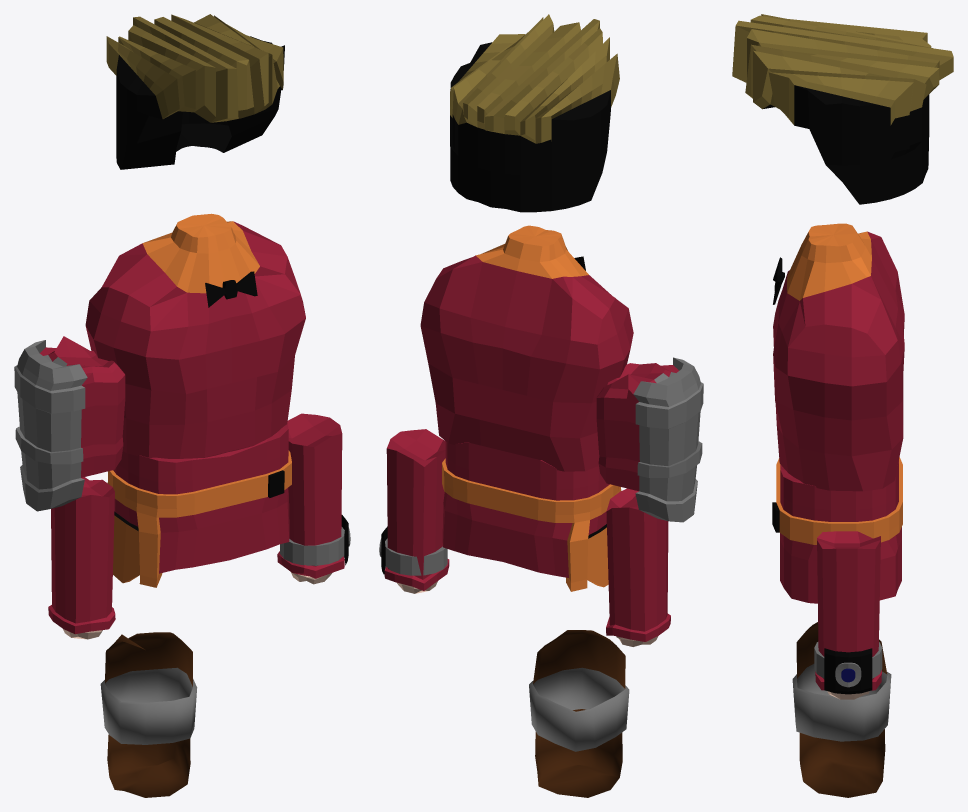
Rendered from ArturParts.fbx.
3 renders of one model, left to right at view 1: azimuth 30°, elevation 25°; view 2: azimuth 150°, elevation 25°; view 3: azimuth 270°, elevation 25°, orthographic. The views are drawn at different scales.
Visible parts, largest first — view 1: Artur_Torso, ArturHair, Artur_Body, RightSholder_WithShield, RightLeg_WithHolster, RightArm_WithClothes, LeftArm_WithClothes, Artur_Clock, Bow_Tie; view 2: Artur_Torso, ArturHair, Artur_Body, RightLeg_WithHolster, RightSholder_WithShield, RightArm_WithClothes, LeftArm_WithClothes, Artur_Clock; view 3: Artur_Torso, ArturHair, RightLeg_WithHolster, Artur_Body, LeftArm_WithClothes, Artur_Clock.
Part boxes in pixels (left/top/right/bottom): Artur_Torso: left=85, top=213, right=305, bottom=458; ArturHair: left=106, top=14, right=284, bottom=169; Artur_Body: left=107, top=423, right=291, bottom=587; RightSholder_WithShield: left=14, top=336, right=125, bottom=511; RightLeg_WithHolster: left=100, top=632, right=197, bottom=797; RightArm_WithClothes: left=48, top=477, right=115, bottom=639; LeftArm_WithClothes: left=277, top=413, right=344, bottom=584; Artur_Clock: left=280, top=515, right=350, bottom=565; Bow_Tie: left=205, top=271, right=257, bottom=307; Artur_Torso: left=420, top=225, right=633, bottom=471; ArturHair: left=450, top=14, right=619, bottom=212; Artur_Body: left=442, top=441, right=621, bottom=591; RightLeg_WithHolster: left=529, top=630, right=629, bottom=797; RightSholder_WithShield: left=596, top=357, right=703, bottom=522; RightArm_WithClothes: left=606, top=488, right=670, bottom=646; LeftArm_WithClothes: left=384, top=429, right=449, bottom=593; Artur_Clock: left=379, top=526, right=447, bottom=575; Artur_Torso: left=773, top=223, right=904, bottom=491; ArturHair: left=732, top=14, right=953, bottom=204; RightLeg_WithHolster: left=792, top=622, right=891, bottom=797; Artur_Body: left=772, top=457, right=902, bottom=603; LeftArm_WithClothes: left=815, top=531, right=881, bottom=699; Artur_Clock: left=814, top=642, right=882, bottom=694.
Size of the model in its own units: 0.533 by 1.18 by 0.3063.
